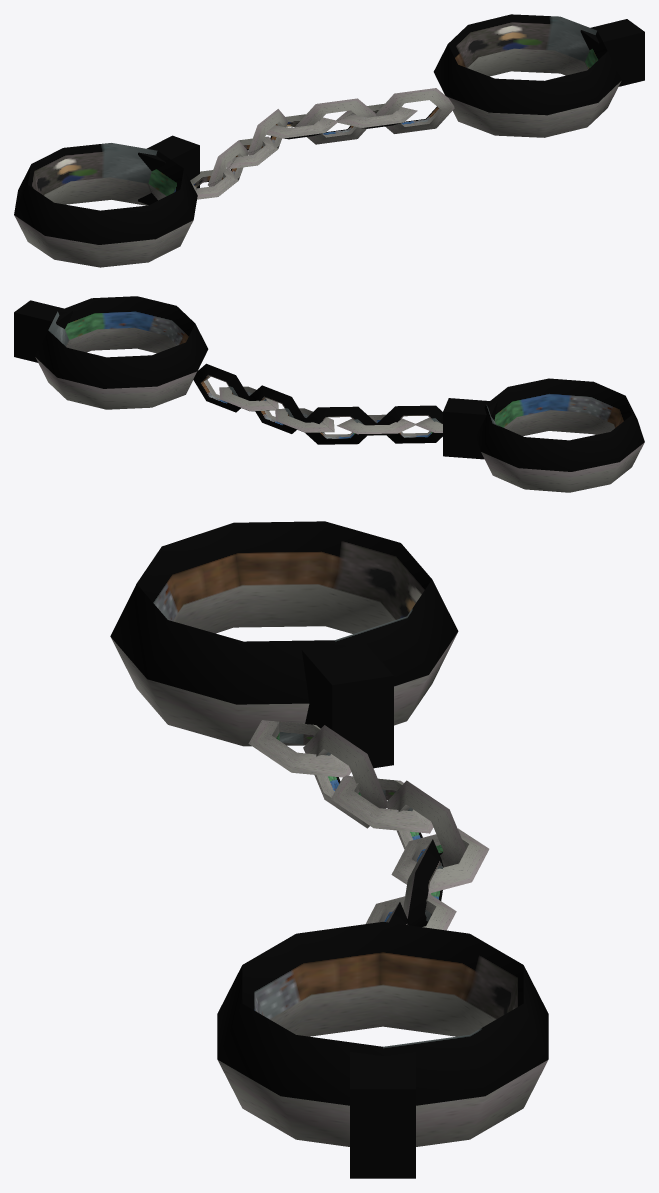
Rendered from manacles.fbx.
3 renders of one model, top to bottom at view 1: azimuth 30°, elevation 25°; view 2: azimuth 150°, elevation 25°; view 3: azimuth 270°, elevation 25°, orthographic. The views are drawn at different scales.
Parts seen in each view (by area): view 1: manacles; view 2: manacles; view 3: manacles.
Boxes of the visible parts, bbox=[...] form: manacles: bbox=[14, 14, 644, 267]; manacles: bbox=[14, 296, 644, 492]; manacles: bbox=[110, 521, 548, 1178].
Bounding box in the file's own units: 0.4109 × 0.0362 × 0.1334.
